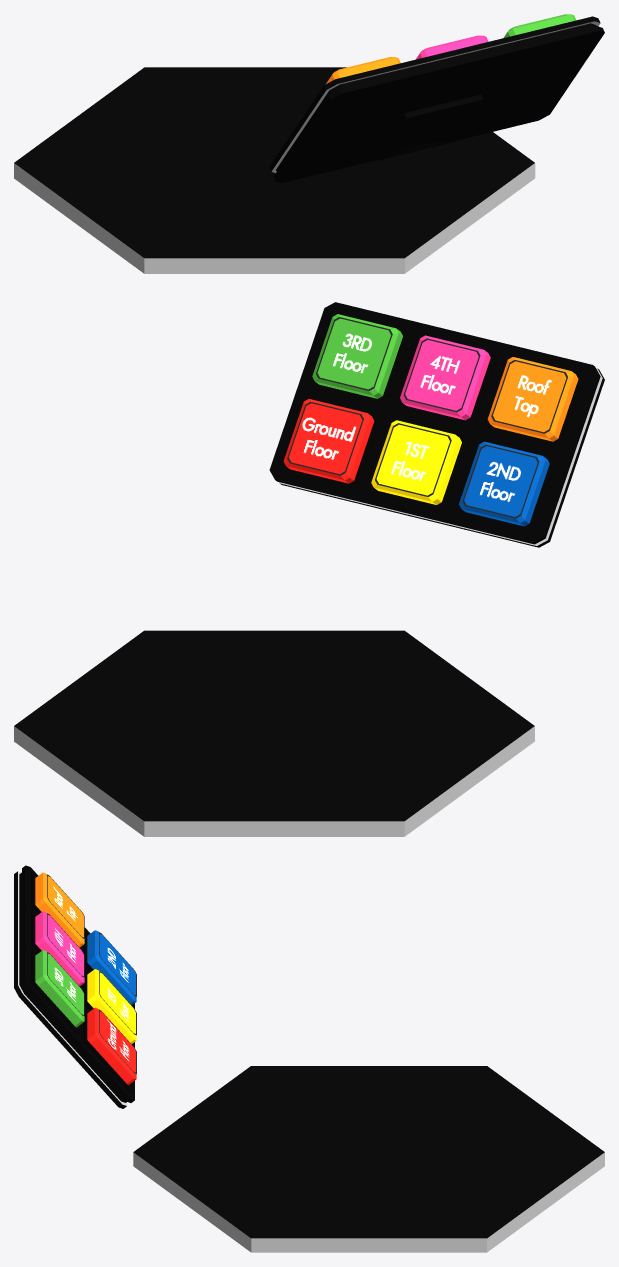
File: netObjex_elevator_001.glb
3 views of the same model, one above another, from view 1: azimuth 30°, elevation 25°; view 2: azimuth 150°, elevation 25°; view 3: azimuth 270°, elevation 25° (orthographic). The views are drawn at different scales.
Visible parts, largest first — view 1: Elevator; view 2: Elevator; view 3: Elevator.
Part boxes in pixels (x1,y1,x2,y2): Elevator: (14, 14, 604, 273); Elevator: (14, 302, 604, 836); Elevator: (14, 865, 604, 1252).
Size of what is drawn, in the model's own units: 2.89 by 1.9 by 4.18.
2 materials, 2 textured.
